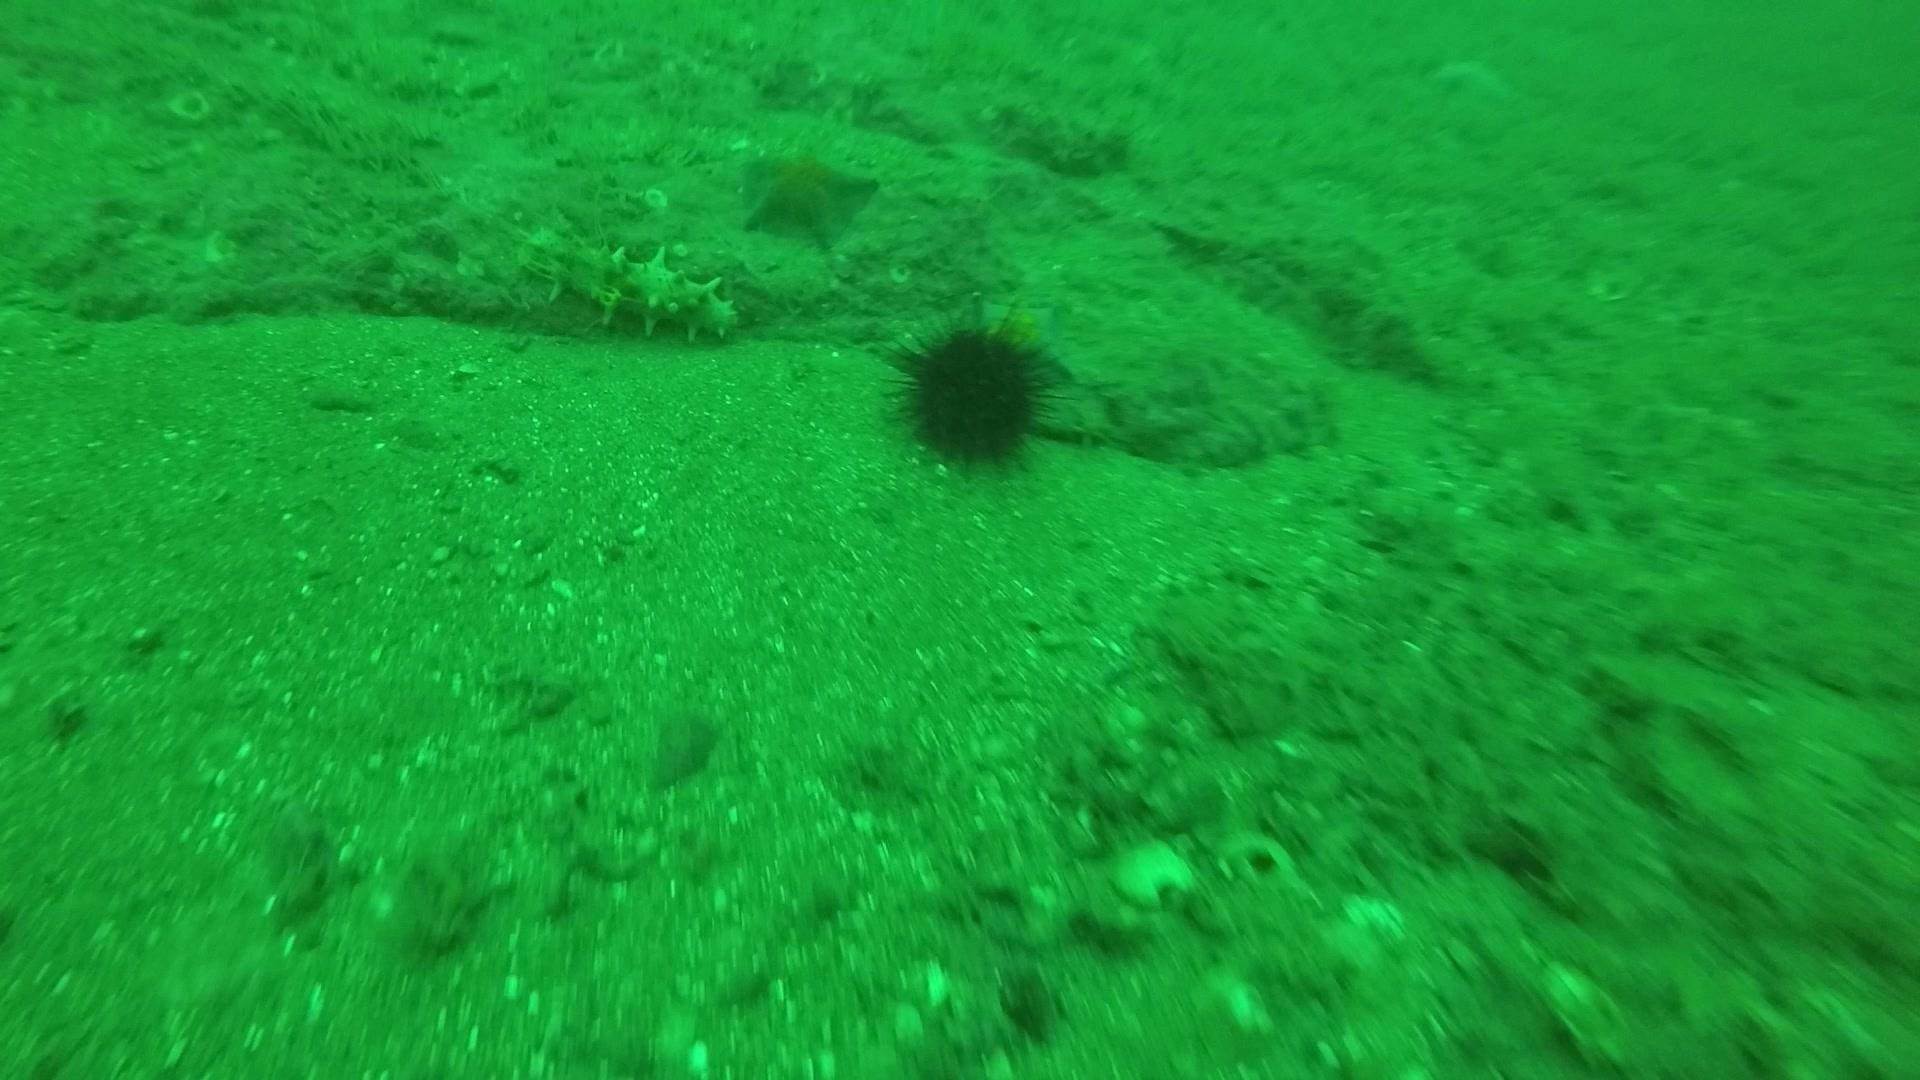echinus: (882, 306, 1067, 475)
holothurian: (506, 218, 746, 348)
starfish: (729, 135, 885, 253), (973, 287, 1080, 382), (1424, 50, 1520, 113)
